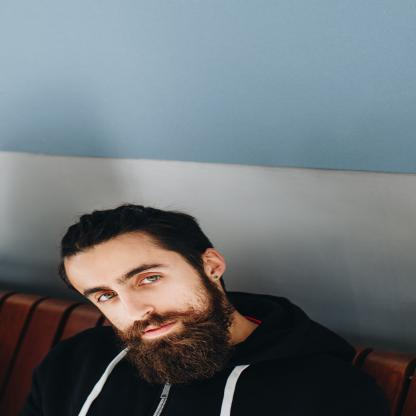Eye: (129, 272, 167, 290), (93, 286, 126, 304)
Mouth: (138, 320, 185, 340)
Nose: (116, 284, 158, 322)
